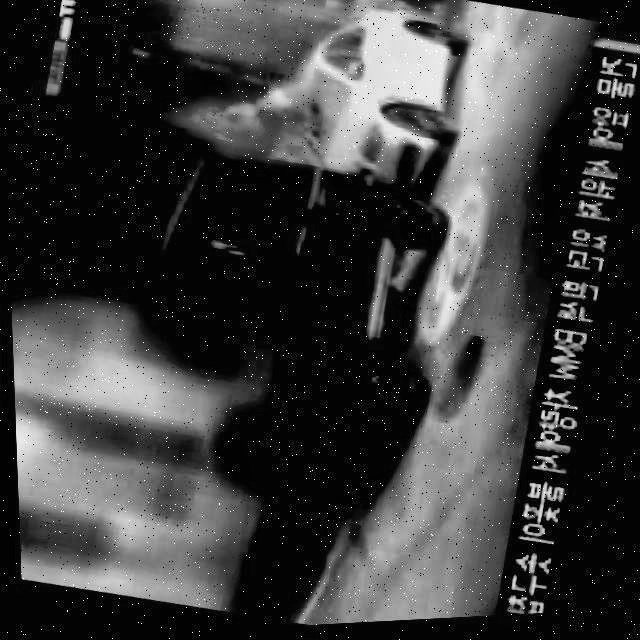Fire: (216, 83, 315, 169)
